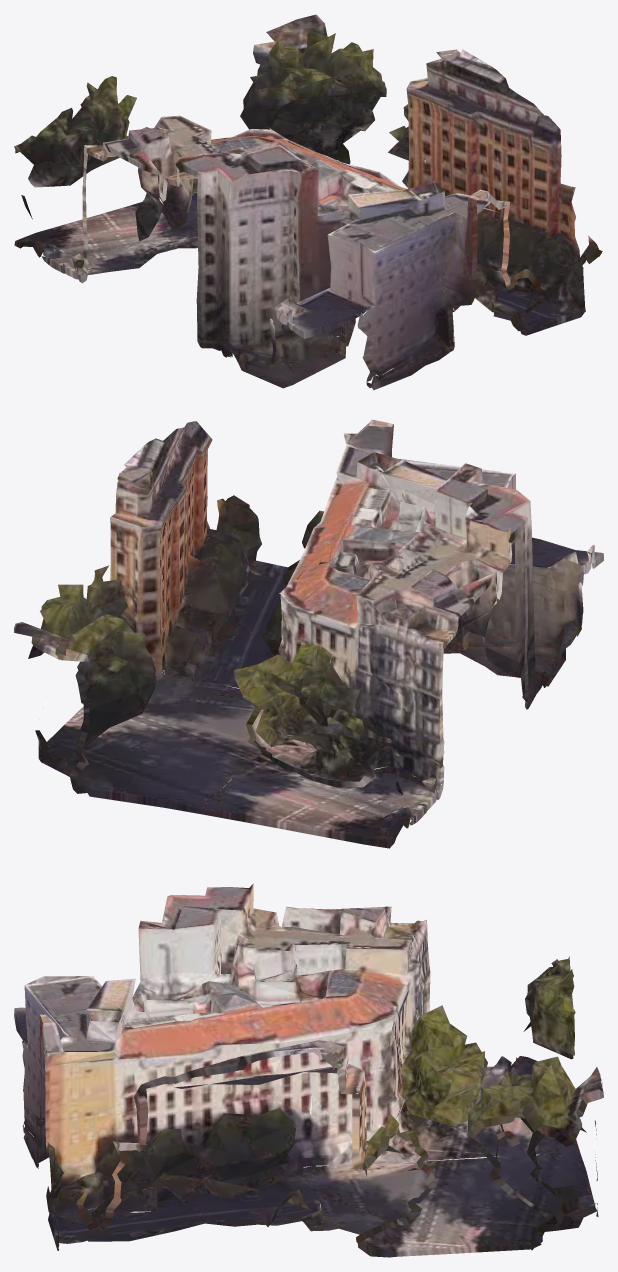
3 renders of one model, top to bottom at view 1: azimuth 30°, elevation 25°; view 2: azimuth 150°, elevation 25°; view 3: azimuth 270°, elevation 25°, orthographic. The views are drawn at different scales.
Parts seen in each view (by area): view 1: Mesh_0; view 2: Mesh_0; view 3: Mesh_0.
Part boxes in pixels (box(x1,y1,x2,y2)): Mesh_0: box(14, 14, 602, 390); Mesh_0: box(14, 419, 603, 848); Mesh_0: box(14, 883, 603, 1257).
Bounding box in the file's own units: 66.62 × 33.12 × 82.29.
1 material, 1 textured.
